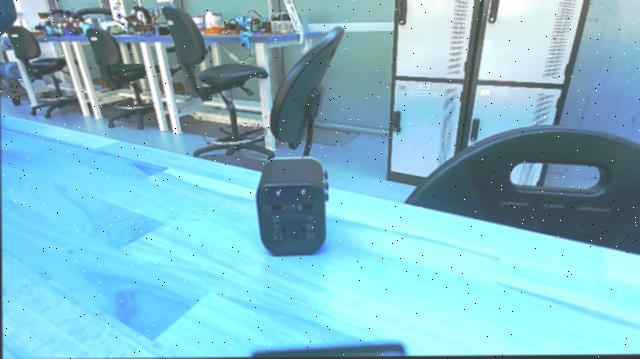adapter: (248, 151, 337, 266)
